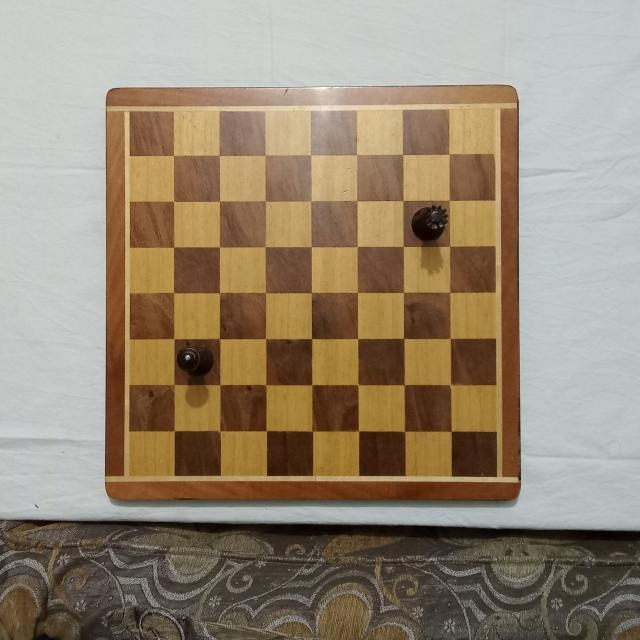black-king: (176, 344, 216, 377)
black-queen: (411, 203, 449, 243)
